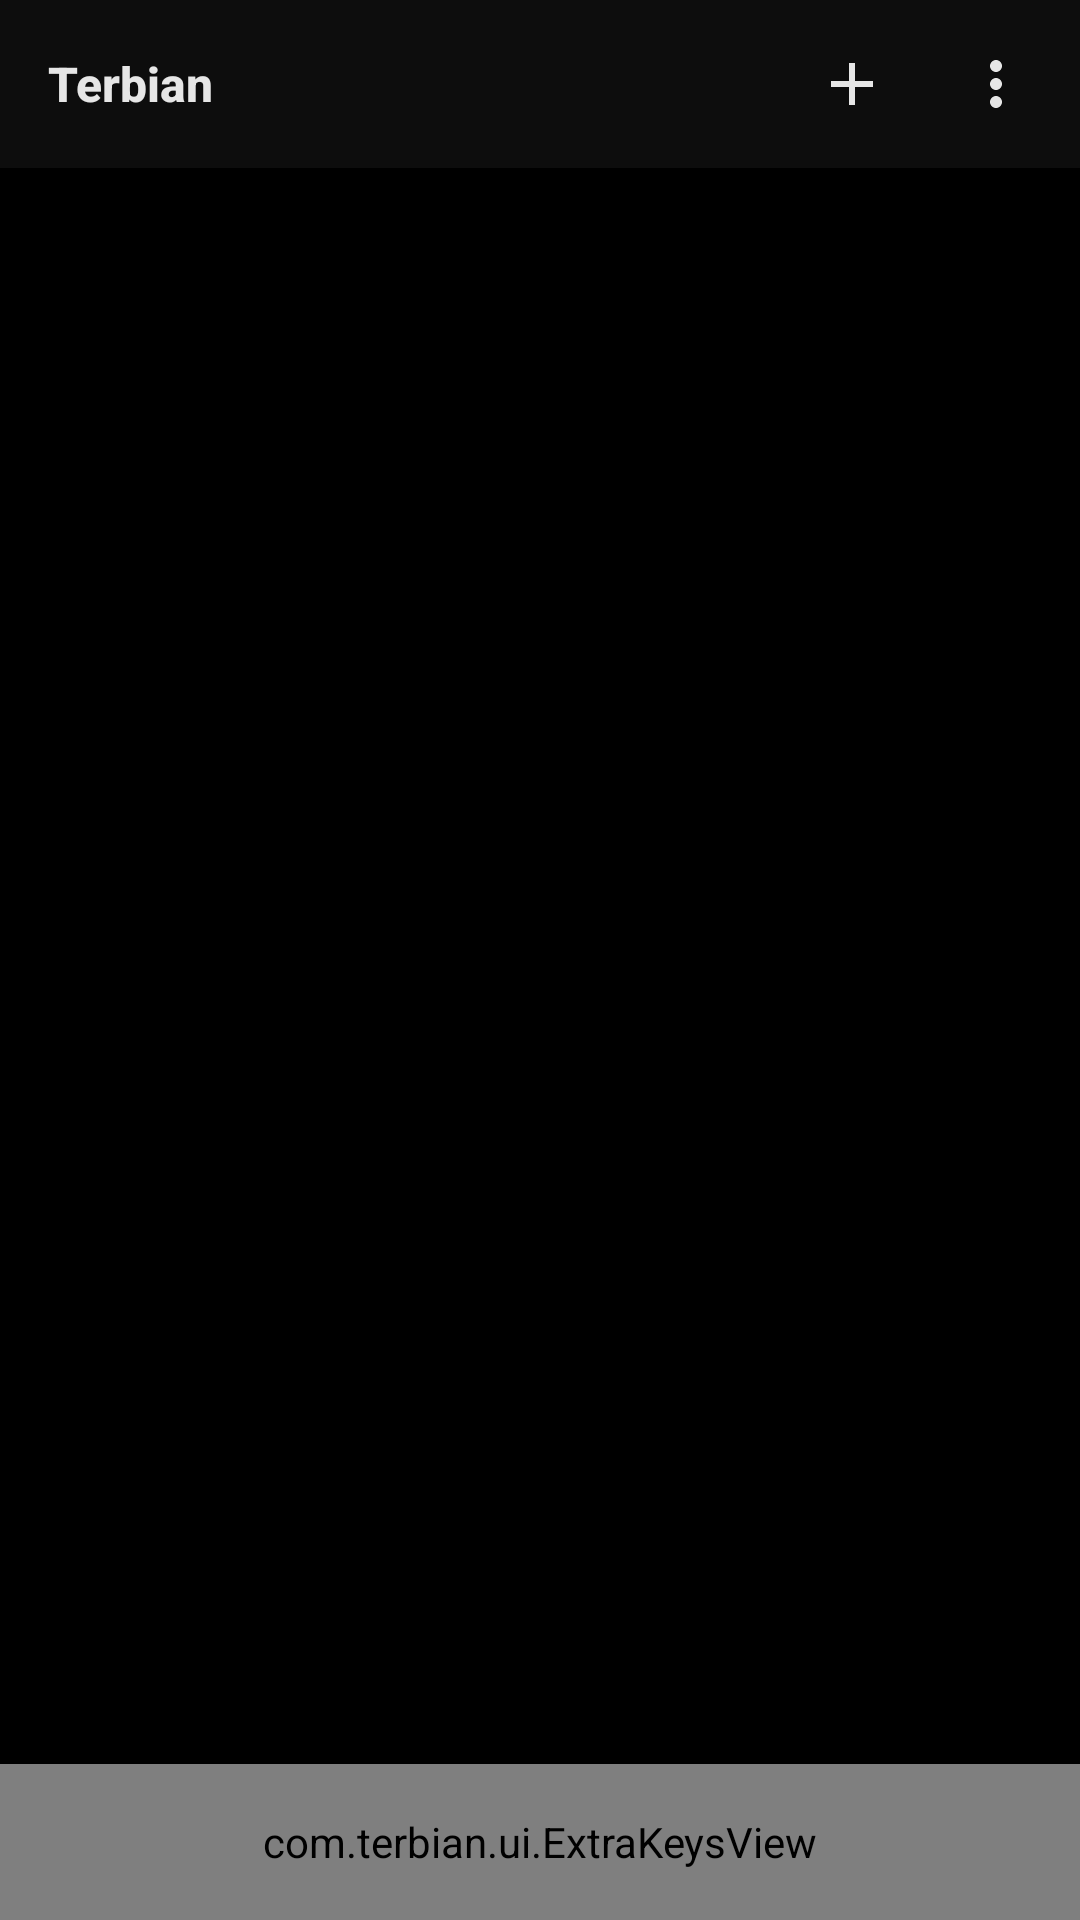

Icon bounding boxes for this 1080 × 1920 phone screenshot, format (x1=x1, y1=y1, x2=x2, y2=y2):
Menu: (x1=990, y1=60, x2=1002, y2=108)
New session: (x1=831, y1=63, x2=873, y2=105)
